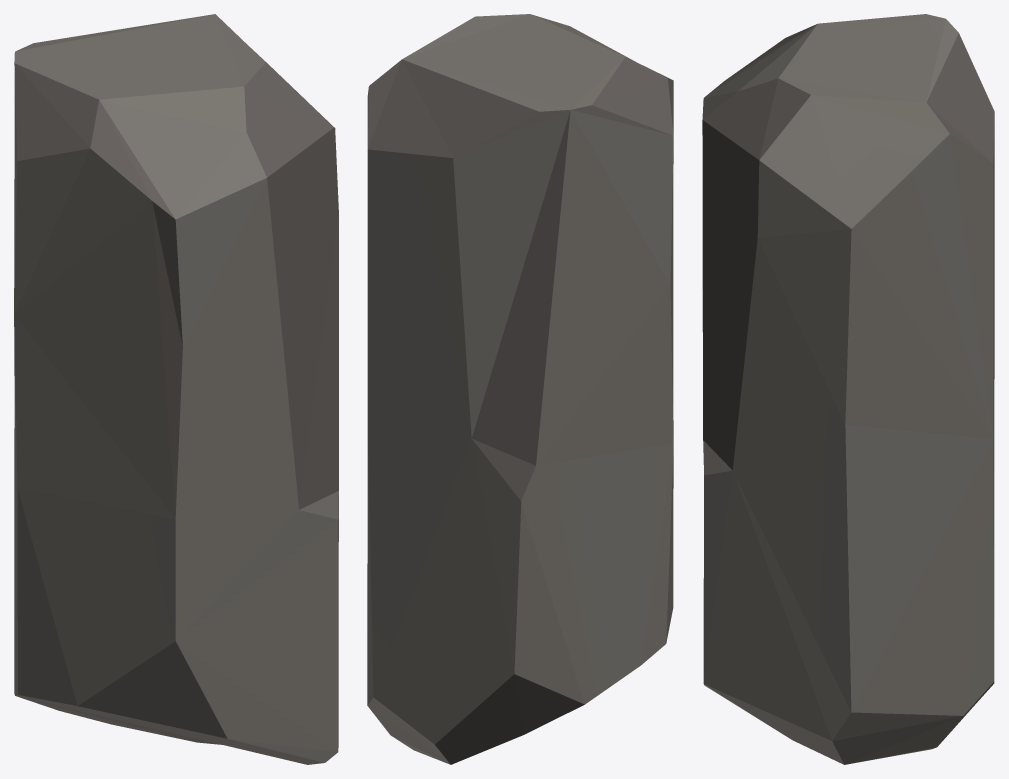
File: SM_Env_Rock_Pillar_011.glb
3 views of the same model, side by side, from view 1: azimuth 30°, elevation 25°; view 2: azimuth 150°, elevation 25°; view 3: azimuth 270°, elevation 25° (orthographic). The views are drawn at different scales.
Parts seen in each view (by area): view 1: SM_Env_Rock_Pillar_011; view 2: SM_Env_Rock_Pillar_011; view 3: SM_Env_Rock_Pillar_011.
Part boxes in pixels (x1,y1,x2,y2): SM_Env_Rock_Pillar_011: (14,14,338,764); SM_Env_Rock_Pillar_011: (367,14,673,764); SM_Env_Rock_Pillar_011: (702,14,994,764).
Size of the model in its own units: 0.00719 by 0.0156 by 0.00629.
Materials: 1 (1 with a texture image).
